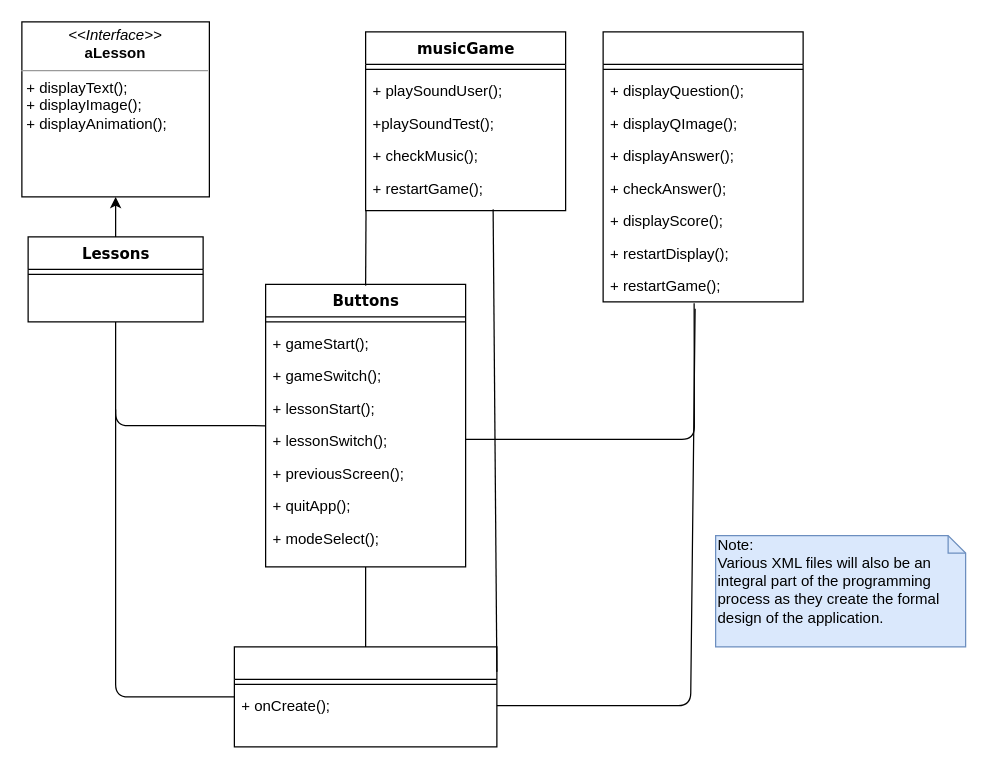
Image size: 988x769. Some labels were removed from this diagram. Each missing label, with the box of its shape:
MainActivity: (233, 646, 497, 747)
quizGame: (602, 31, 803, 302)
